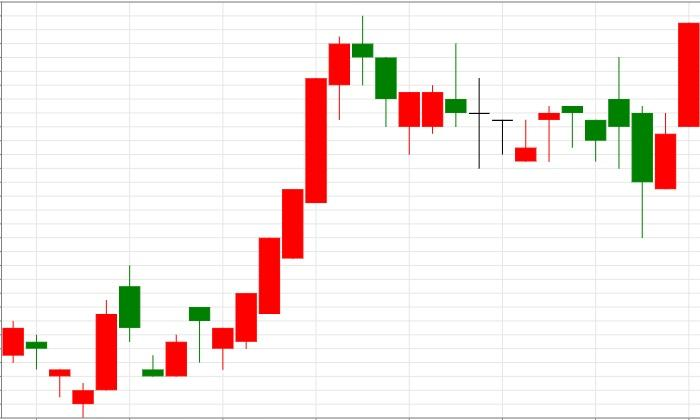evening_star_fall: (212, 15, 397, 370)
